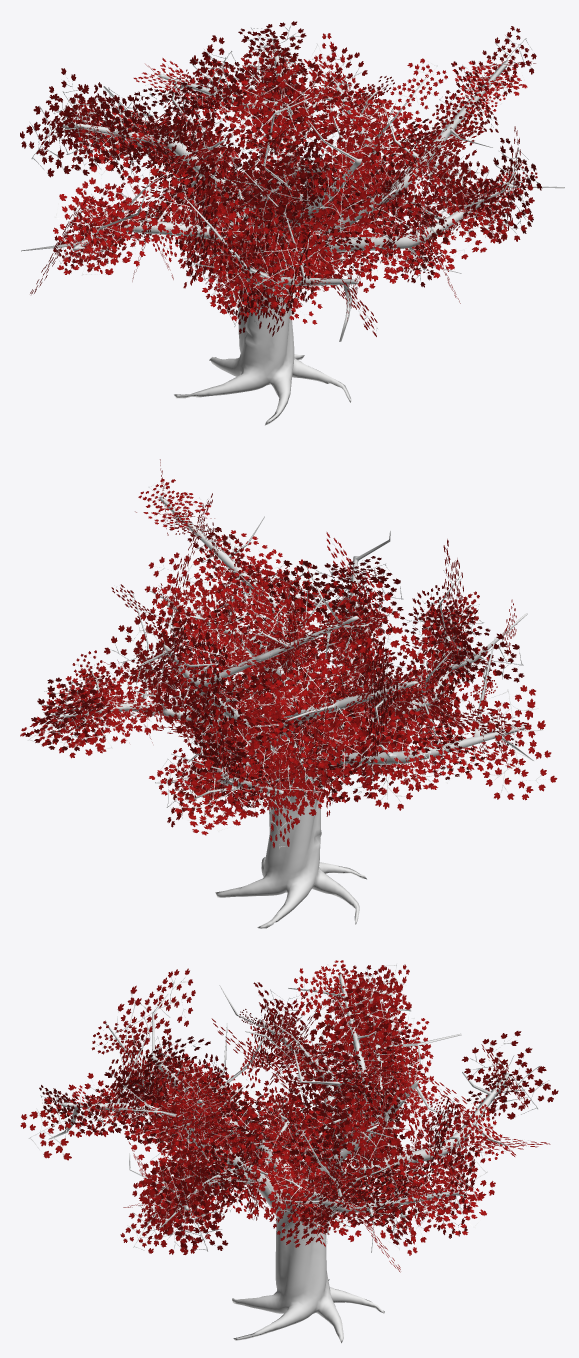
The model's file is weirwood2.fbx.
3 renders of one model, top to bottom at view 1: azimuth 30°, elevation 25°; view 2: azimuth 150°, elevation 25°; view 3: azimuth 270°, elevation 25°, orthographic. The views are drawn at different scales.
Visible parts, largest first — view 1: second_5k, second_5k|WeirwoodBranch|Dupli|328, second_5k|WeirwoodBranch|Dupli|331, second_5k|WeirwoodBranch|Dupli|260, second_5k|WeirwoodBranch|Dupli|381, second_5k|WeirwoodBranch|Dupli|342, second_5k|WeirwoodBranch|Dupli|35, second_5k|WeirwoodBranch|Dupli|372, second_5k|WeirwoodBranch|Dupli|294, second_5k|WeirwoodBranch|Dupli|340, second_5k|WeirwoodBranch|Dupli|190, second_5k|WeirwoodBranch|Dupli|292 (+60 smaller); view 2: second_5k, second_5k|WeirwoodBranch|Dupli|332, second_5k|WeirwoodBranch|Dupli|191, second_5k|WeirwoodBranch|Dupli|104, second_5k|WeirwoodBranch|Dupli|148, second_5k|WeirwoodBranch|Dupli|316, second_5k|WeirwoodBranch|Dupli|182, second_5k|WeirwoodBranch|Dupli|21, second_5k|WeirwoodBranch|Dupli|342, second_5k|WeirwoodBranch|Dupli|100, second_5k|WeirwoodBranch|Dupli|384, second_5k|WeirwoodBranch|Dupli|297 (+49 smaller); view 3: second_5k, second_5k|WeirwoodBranch|Dupli|382, second_5k|WeirwoodBranch|Dupli|190, second_5k|WeirwoodBranch|Dupli|328, second_5k|WeirwoodBranch|Dupli|301, second_5k|WeirwoodBranch|Dupli|327, second_5k|WeirwoodBranch|Dupli|227, second_5k|WeirwoodBranch|Dupli|284, second_5k|WeirwoodBranch|Dupli|334, second_5k|WeirwoodBranch|Dupli|339, second_5k|WeirwoodBranch|Dupli|283, second_5k|WeirwoodBranch|Dupli|294 (+64 smaller).
Part boxes in pixels (x1,y1,x2,y2): second_5k: (21, 42, 564, 425); second_5k|WeirwoodBranch|Dupli|328: (203, 145, 309, 224); second_5k|WeirwoodBranch|Dupli|331: (82, 153, 193, 242); second_5k|WeirwoodBranch|Dupli|260: (312, 117, 382, 232); second_5k|WeirwoodBranch|Dupli|381: (244, 212, 354, 308); second_5k|WeirwoodBranch|Dupli|342: (231, 64, 323, 164); second_5k|WeirwoodBranch|Dupli|35: (55, 95, 162, 175); second_5k|WeirwoodBranch|Dupli|372: (53, 187, 150, 266); second_5k|WeirwoodBranch|Dupli|294: (162, 35, 244, 148); second_5k|WeirwoodBranch|Dupli|340: (232, 69, 341, 145); second_5k|WeirwoodBranch|Dupli|190: (20, 68, 98, 177); second_5k|WeirwoodBranch|Dupli|292: (442, 159, 534, 241); second_5k: (43, 496, 533, 928); second_5k|WeirwoodBranch|Dupli|332: (470, 685, 557, 800); second_5k|WeirwoodBranch|Dupli|191: (280, 581, 399, 667); second_5k|WeirwoodBranch|Dupli|104: (190, 738, 300, 829); second_5k|WeirwoodBranch|Dupli|148: (323, 715, 424, 810); second_5k|WeirwoodBranch|Dupli|316: (104, 614, 207, 723); second_5k|WeirwoodBranch|Dupli|182: (233, 756, 325, 824); second_5k|WeirwoodBranch|Dupli|21: (285, 658, 382, 747); second_5k|WeirwoodBranch|Dupli|342: (267, 560, 368, 637); second_5k|WeirwoodBranch|Dupli|100: (149, 764, 242, 835); second_5k|WeirwoodBranch|Dupli|384: (428, 630, 524, 682); second_5k|WeirwoodBranch|Dupli|297: (24, 677, 103, 751); second_5k: (48, 974, 524, 1343); second_5k|WeirwoodBranch|Dupli|382: (20, 1073, 122, 1160); second_5k|WeirwoodBranch|Dupli|190: (461, 1031, 558, 1119); second_5k|WeirwoodBranch|Dupli|328: (115, 968, 195, 1054); second_5k|WeirwoodBranch|Dupli|301: (150, 1162, 228, 1251); second_5k|WeirwoodBranch|Dupli|327: (141, 1159, 219, 1254); second_5k|WeirwoodBranch|Dupli|227: (344, 1067, 437, 1167); second_5k|WeirwoodBranch|Dupli|284: (392, 1154, 495, 1242); second_5k|WeirwoodBranch|Dupli|334: (226, 1122, 302, 1219); second_5k|WeirwoodBranch|Dupli|339: (299, 1043, 371, 1120); second_5k|WeirwoodBranch|Dupli|283: (389, 1159, 486, 1235); second_5k|WeirwoodBranch|Dupli|294: (309, 988, 399, 1070).
Bounding box in the file's own units: 4388 × 4222 × 3026.
Materials: 2 (1 with a texture image).
